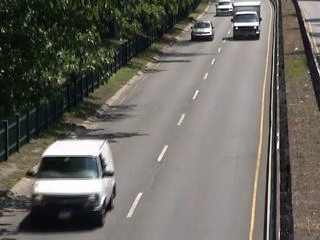car: (190, 19, 216, 42), (215, 1, 234, 17)
truck: (26, 136, 117, 228), (232, 2, 262, 38)
